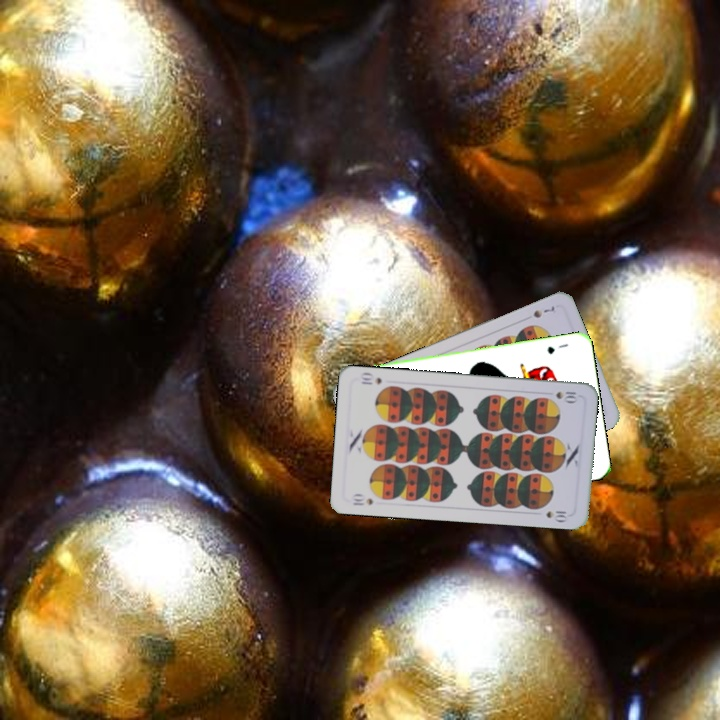GU: (543, 340, 570, 357)
S10: (348, 490, 375, 508), (552, 387, 579, 404)
S7: (529, 302, 559, 321)
